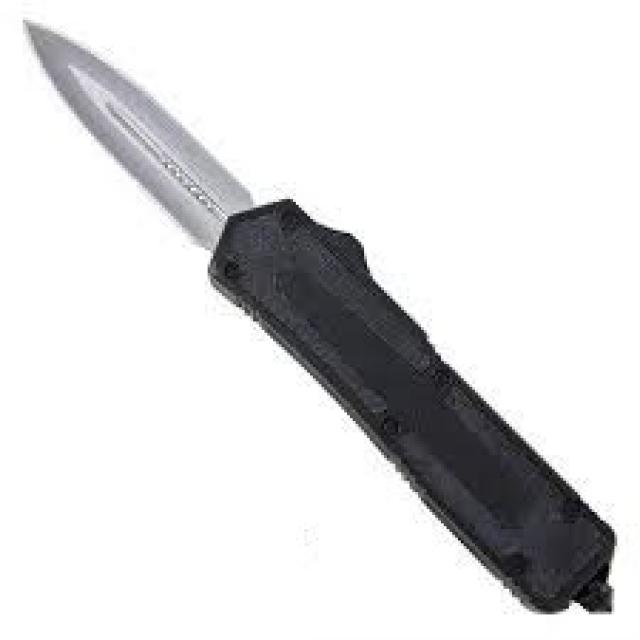knife: (15, 10, 624, 625)
